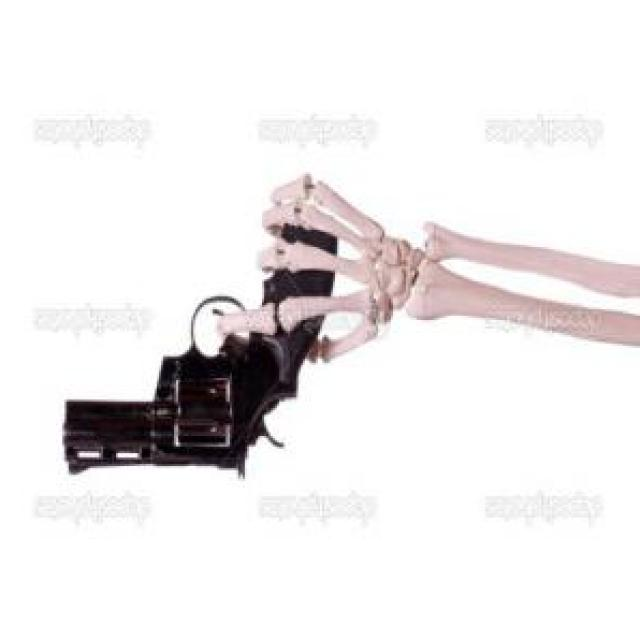pistol: (60, 210, 342, 486)
